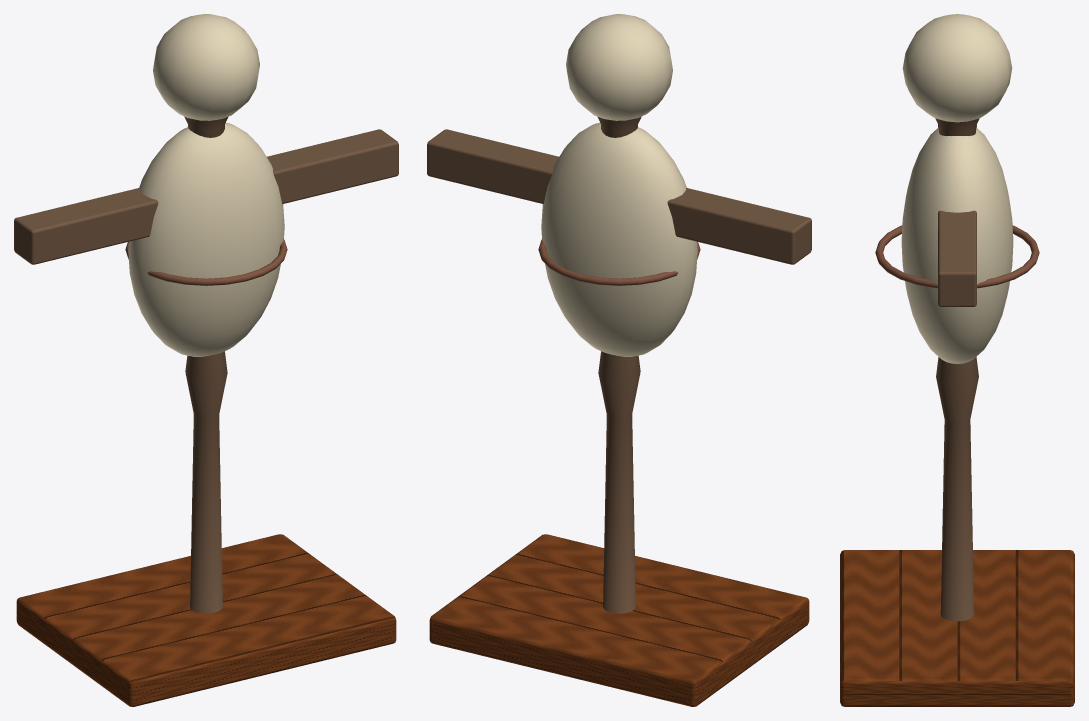
The model's file is adventurers-tavern-and-guild-hall-training-dummy-5a3c1c07__24754.glb.
The picture shows the model from 3 angles, left to right: view 1: azimuth 30°, elevation 25°; view 2: azimuth 150°, elevation 25°; view 3: azimuth 270°, elevation 25°; orthographic projection.
Parts seen in each view (by area): view 1: training-dummy; view 2: training-dummy; view 3: training-dummy.
Part boxes in pixels (bbox=[...]): training-dummy: bbox=[14, 14, 398, 706]; training-dummy: bbox=[427, 14, 811, 706]; training-dummy: bbox=[840, 14, 1074, 706].
Size of the model in its own units: 1.1 by 1.76 by 0.6.
4 materials, 1 textured.
